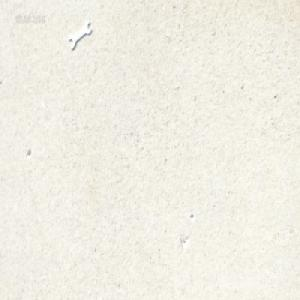Wrench: (68, 19, 91, 51)
